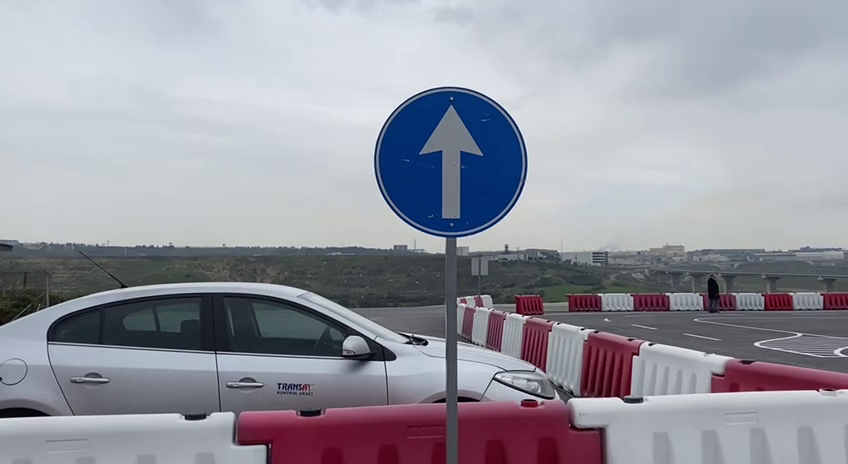forward: (367, 79, 533, 244)
